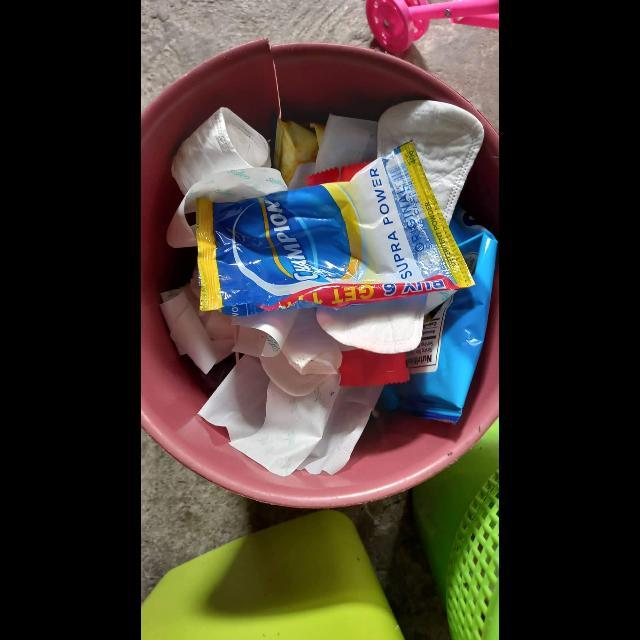wrapper: (197, 139, 477, 315), (375, 206, 499, 425)
